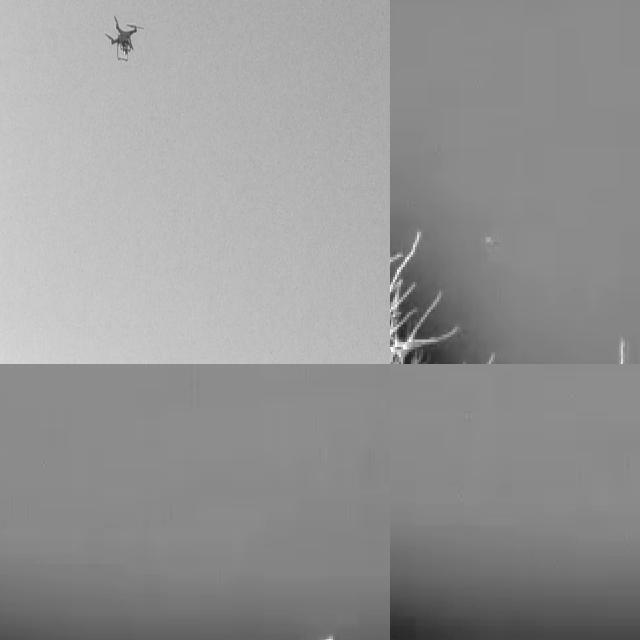0: (473, 226, 505, 258)
1: (307, 627, 347, 640)
drone: (102, 13, 143, 63)
